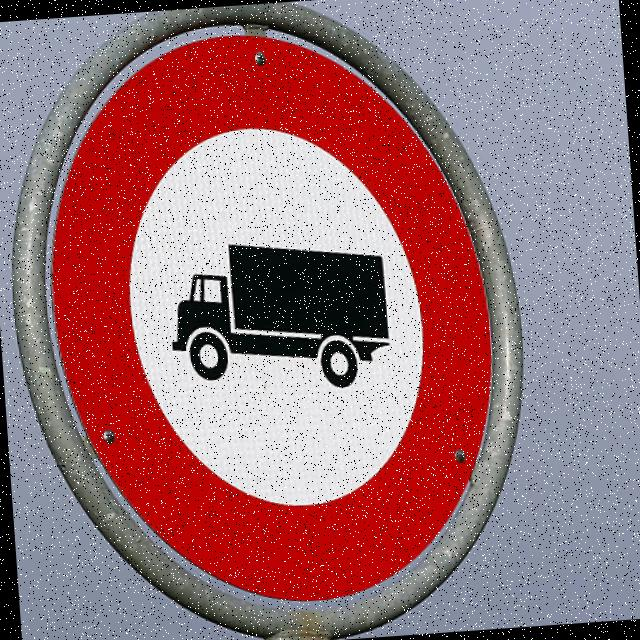do_not_enter: (52, 29, 499, 610)
